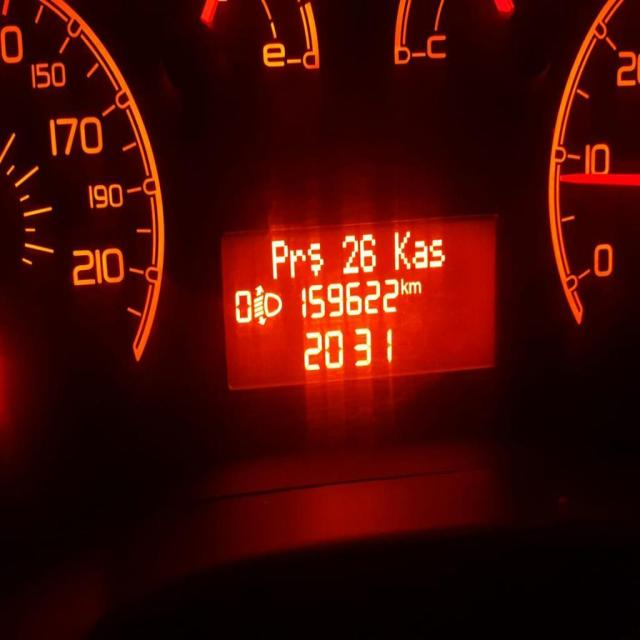odometer: (216, 210, 501, 395)
